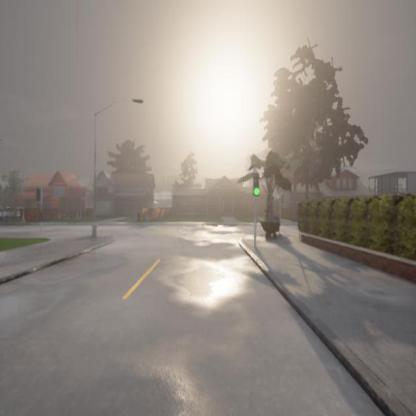traffic_light_green: (252, 172, 261, 195)
